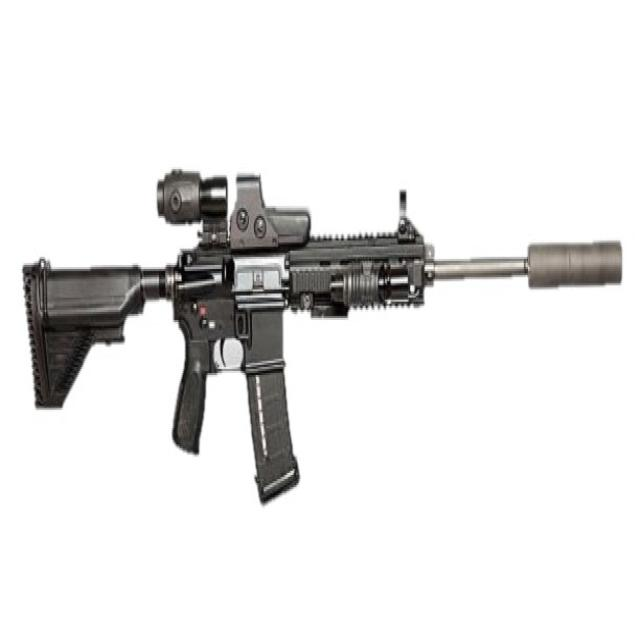rifle: (20, 157, 625, 522)
